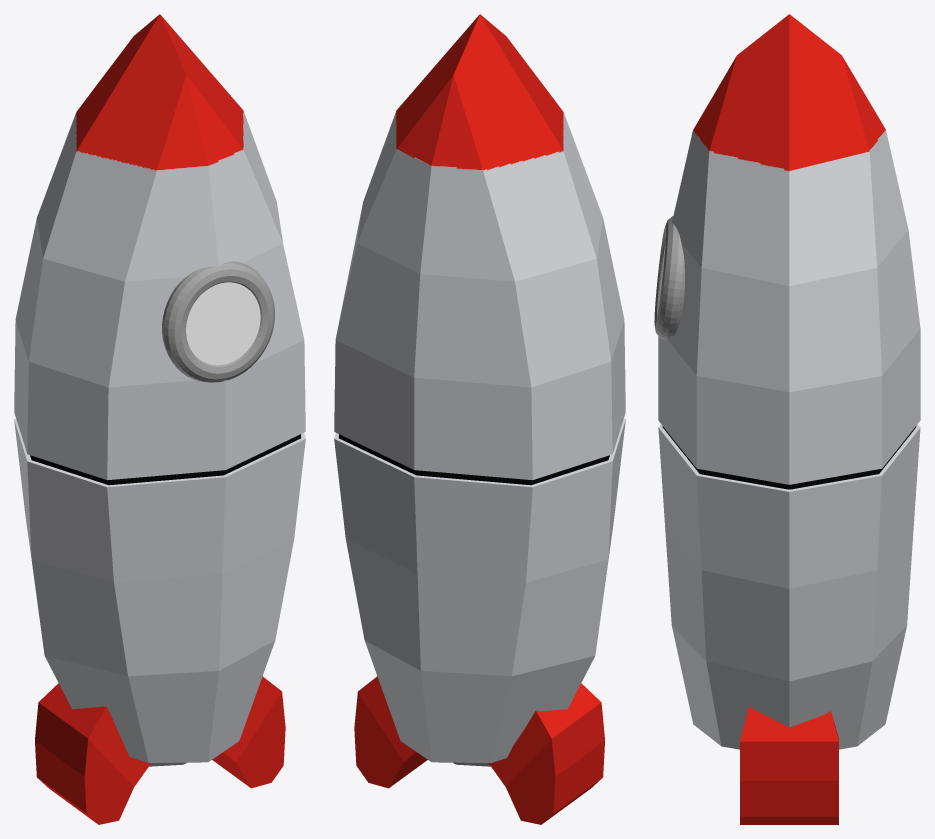
File: rocket.glb
3 renders of one model, left to right at view 1: azimuth 30°, elevation 25°; view 2: azimuth 150°, elevation 25°; view 3: azimuth 270°, elevation 25°, orthographic.
Visible parts, largest first — view 1: Rocket; view 2: Rocket; view 3: Rocket.
Part boxes in pixels (<box>): Rocket: <box>14,14,305,824</box>; Rocket: <box>334,14,625,824</box>; Rocket: <box>654,14,920,824</box>.
Bounding box in the file's own units: 4.66 × 12.96 × 4.06.
Materials: 3 (1 with a texture image).
